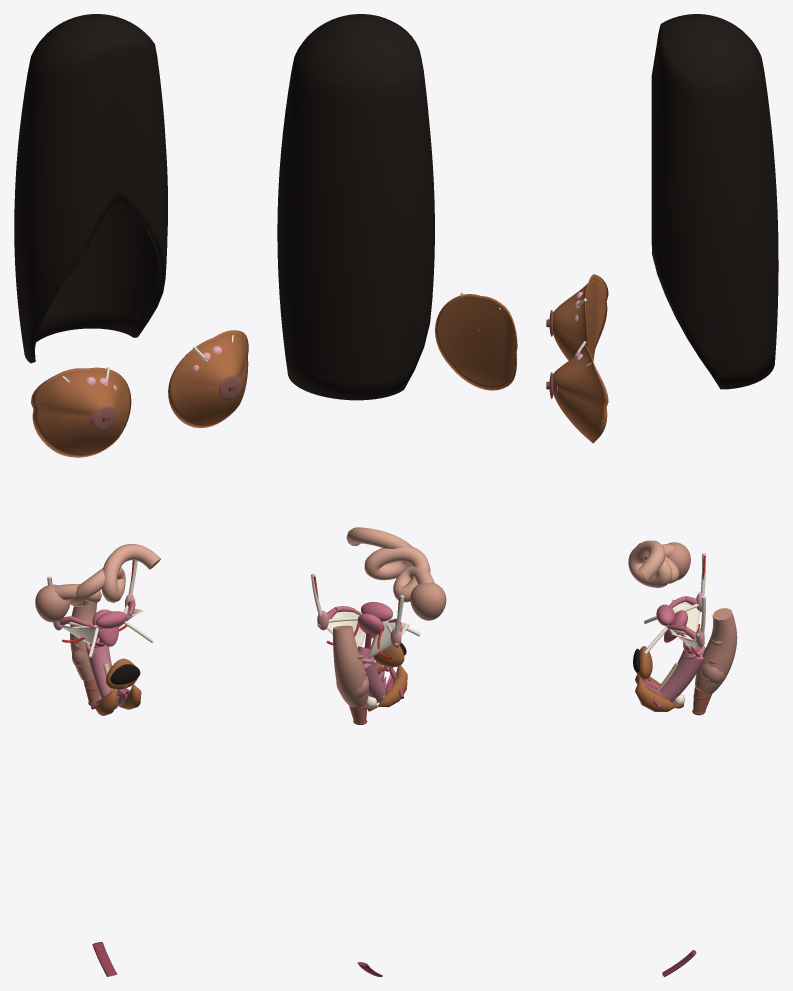
The model's file is extra.glb.
3 views of the same model, side by side, from view 1: azimuth 30°, elevation 25°; view 2: azimuth 150°, elevation 25°; view 3: azimuth 270°, elevation 25° (orthographic). The views are drawn at different scales.
Visible parts, largest first — view 1: Long head hair, Breast surface.r, Breast surface.l, Ileum, Caecum, Rectum, Vagina; view 2: Long head hair, Breast surface.r, Ileum, Rectum, Caecum; view 3: Long head hair, Breast surface.l, Breast surface.r, Rectum, Ileum, Vagina, Labial surface.l, Caecum.
Part boxes in pixels (x1,y1,x2,y2): Long head hair: [14, 14, 167, 363]; Breast surface.r: [31, 367, 131, 457]; Breast surface.l: [168, 330, 248, 428]; Ileum: [54, 544, 160, 606]; Caecum: [35, 584, 69, 622]; Rectum: [70, 603, 97, 679]; Vagina: [86, 645, 117, 698]; Long head hair: [277, 14, 434, 400]; Breast surface.r: [435, 294, 517, 390]; Ileum: [346, 527, 434, 602]; Rectum: [333, 625, 368, 707]; Caecum: [410, 582, 446, 620]; Long head hair: [651, 14, 778, 389]; Breast surface.l: [553, 343, 608, 443]; Breast surface.r: [553, 274, 608, 360]; Rectum: [695, 608, 737, 693]; Ileum: [628, 540, 679, 587]; Vagina: [659, 648, 703, 701]; Labial surface.l: [635, 678, 676, 711]; Caecum: [668, 542, 690, 580].
Size of the model in its own units: 0.3245 by 1.34 by 0.2961.
